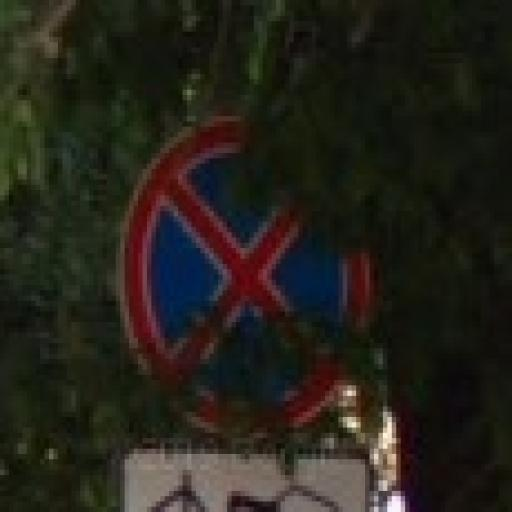traffic_sign: (117, 112, 371, 439)
